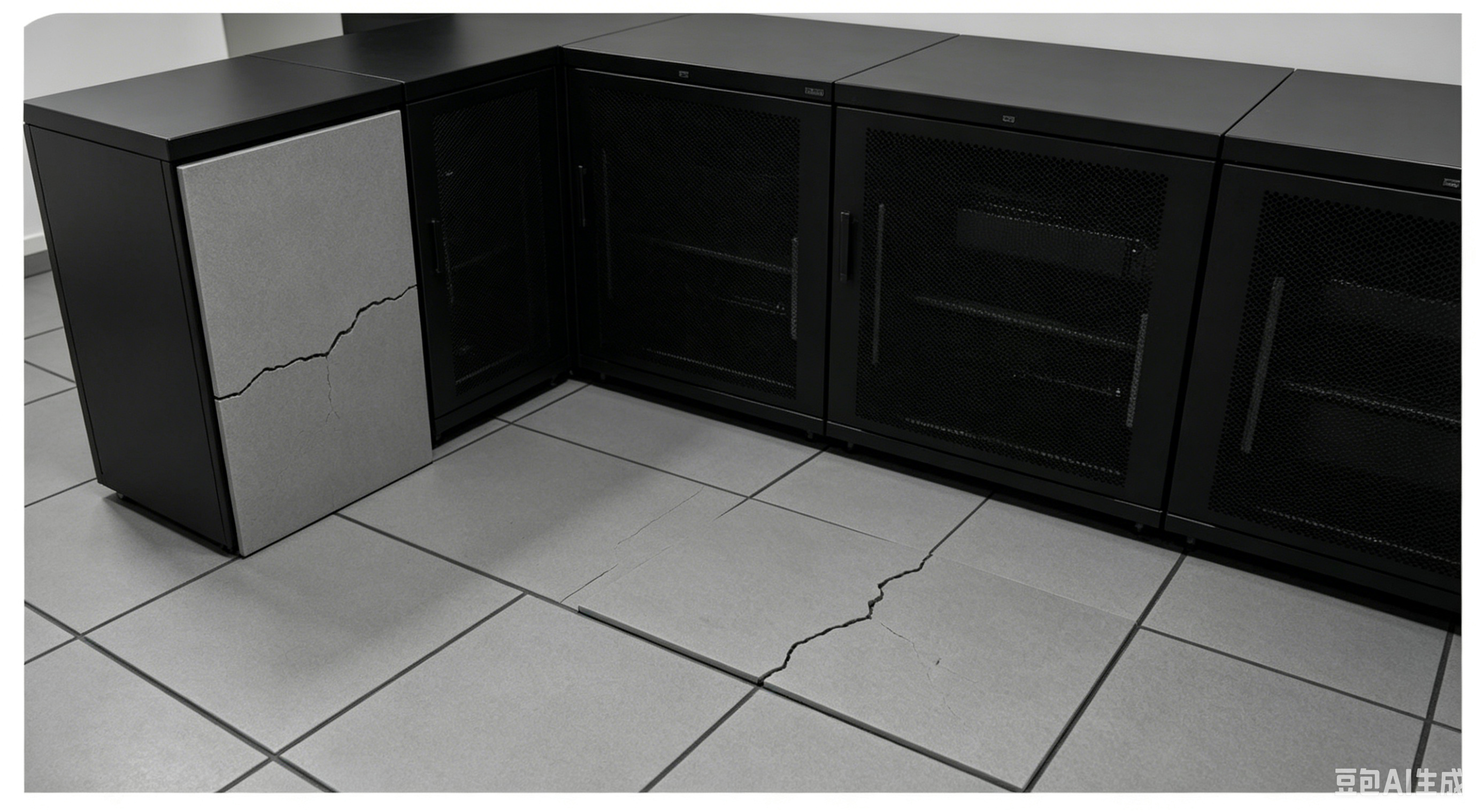floor_defect: (764, 610, 859, 694), (858, 541, 924, 625), (328, 285, 416, 337), (212, 368, 303, 400), (275, 340, 347, 362)
